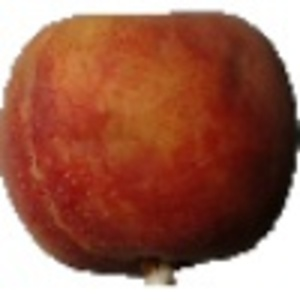pêssego: (1, 9, 300, 289)
